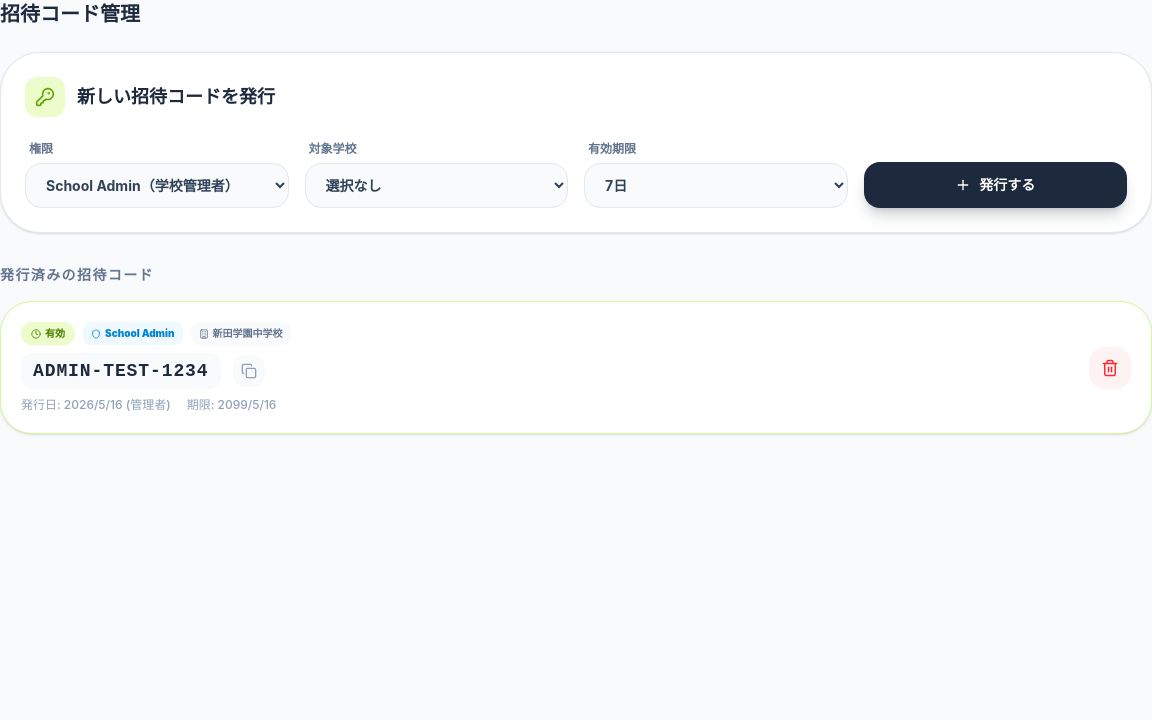
Test: AdminInvitesPage › opens a confirmation dialog before invalidating an invite code
The width and height of the screenshot is (1152, 720).
Expected: the text "ADMIN-TEST-1234" is shown, left=21, top=353, right=220, bottom=389
What coordinates should you click on to do the following:
click the button titled "無効化"
I would click on:
 (1110, 368)
Its box is left=1089, top=346, right=1131, bottom=388.
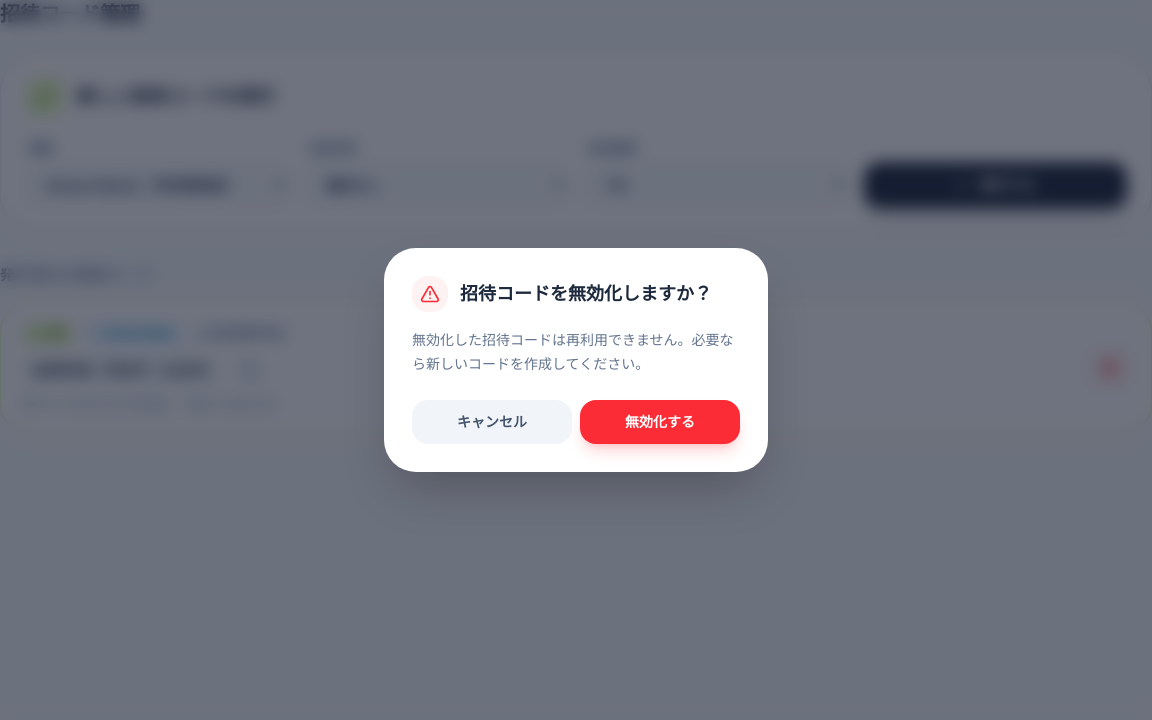
Result: the heading "招待コードを無効化しますか？" is shown at left=460, top=280, right=712, bottom=308
Result: the text "無効化した招待コードは再利用できません。必要なら新しいコードを作成してください。" is shown at left=412, top=328, right=740, bottom=376
